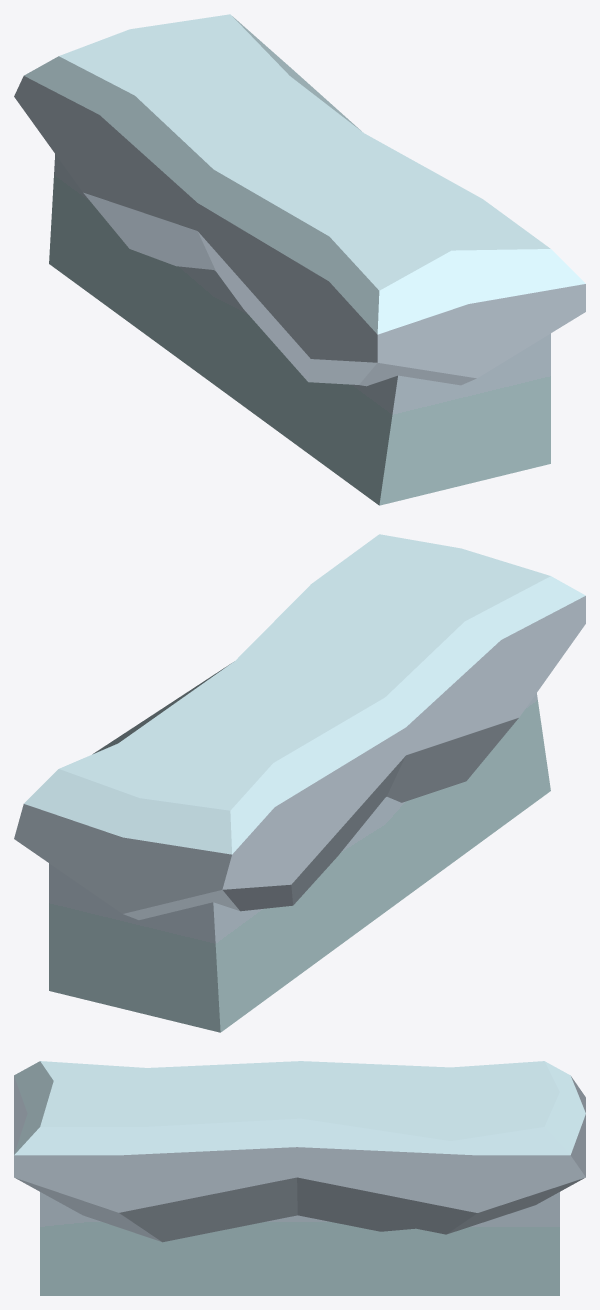
The model's file is SS_Block.fbx.
The picture shows the model from 3 angles, top to bottom: view 1: azimuth 30°, elevation 25°; view 2: azimuth 150°, elevation 25°; view 3: azimuth 270°, elevation 25°; orthographic projection. The views are drawn at different scales.
Visible parts, largest first — view 1: Block; view 2: Block; view 3: Block.
Boxes of the visible parts, x1,y1,x2,y2 form: Block: (14, 14, 585, 505); Block: (14, 534, 585, 1032); Block: (14, 1061, 585, 1295).
Size of the model in its own units: 1.99 by 2.09 by 6.01.
Materials: 1 (1 with a texture image).
